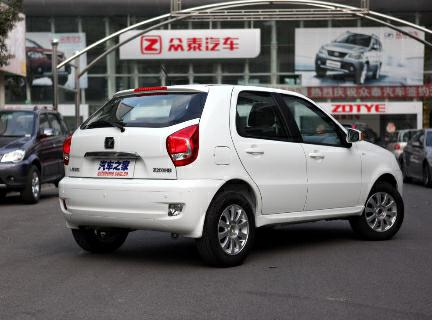众泰-Z200HB: (49, 80, 415, 271)
